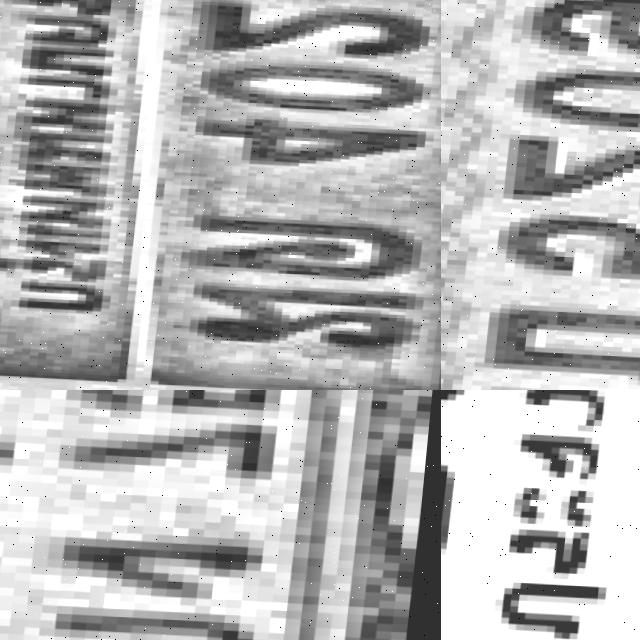license-plate: (0, 0, 441, 390), (0, 390, 412, 640), (441, 0, 640, 390), (441, 390, 640, 640)
